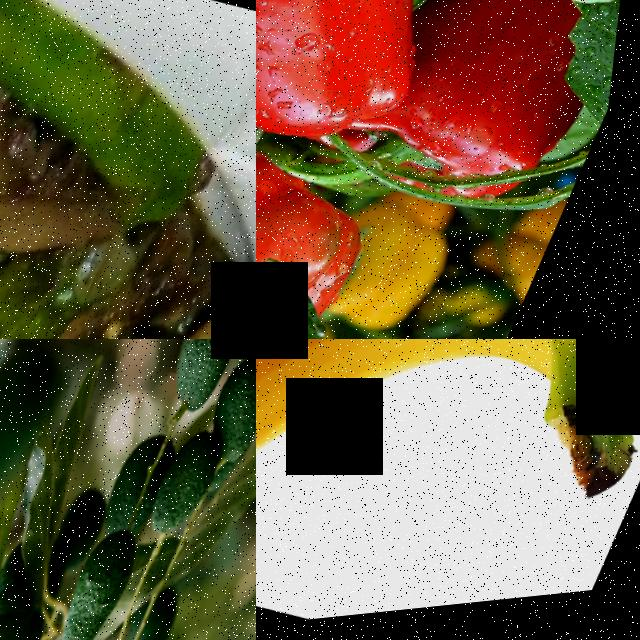asparagus: (0, 0, 238, 204)
avocado: (94, 428, 191, 554), (48, 529, 156, 640), (143, 438, 238, 555), (151, 339, 256, 431), (196, 347, 256, 483), (51, 485, 124, 581), (128, 591, 204, 640)
banana: (256, 339, 640, 640)
bell pepper: (256, 0, 496, 200), (376, 0, 592, 214), (256, 132, 395, 339)
